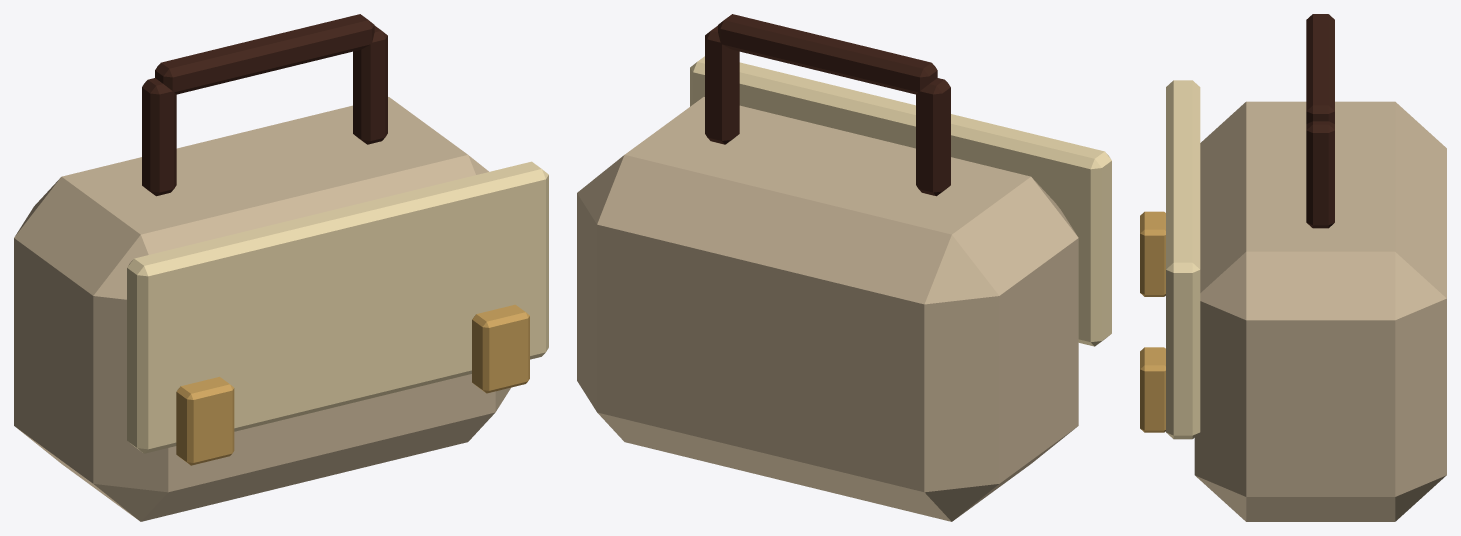
The model's file is residential_accessories_18.glb.
3 renders of one model, left to right at view 1: azimuth 30°, elevation 25°; view 2: azimuth 150°, elevation 25°; view 3: azimuth 270°, elevation 25°, orthographic. The views are drawn at different scales.
Parts seen in each view (by area): view 1: Bag, Flap, Handle_001, Buckle, Buckle_001, Handle, Handle_002; view 2: Bag, Flap, Handle_001, Handle, Handle_002; view 3: Bag, Flap, Handle_001, Handle_002, Buckle, Buckle_001.
Boxes of the visible parts, bbox=[...] form: Bag: bbox=[14, 97, 510, 521]; Flap: bbox=[127, 161, 548, 453]; Handle_001: bbox=[155, 14, 374, 94]; Buckle: bbox=[176, 376, 234, 465]; Buckle_001: bbox=[472, 304, 529, 393]; Handle: bbox=[142, 78, 176, 196]; Handle_002: bbox=[353, 26, 387, 144]; Bag: bbox=[577, 97, 1078, 521]; Flap: bbox=[690, 56, 1111, 346]; Handle_001: bbox=[718, 14, 937, 94]; Handle: bbox=[916, 78, 950, 196]; Handle_002: bbox=[705, 25, 739, 144]; Bag: bbox=[1194, 101, 1446, 521]; Flap: bbox=[1166, 80, 1200, 439]; Handle_001: bbox=[1306, 14, 1334, 123]; Handle_002: bbox=[1306, 121, 1334, 228]; Buckle: bbox=[1140, 211, 1165, 296]; Buckle_001: bbox=[1140, 347, 1165, 432].
Bounding box in the file's own units: 0.4 × 0.3725 × 0.2675.
